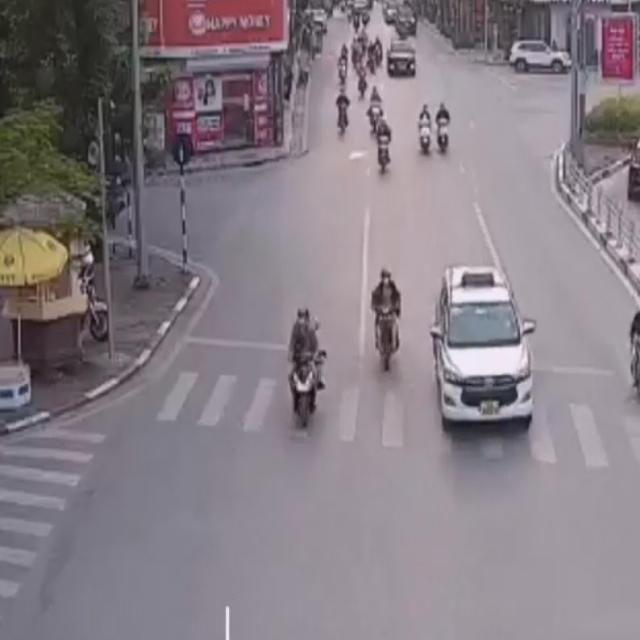car: (428, 260, 536, 438)
motorbike: (283, 304, 328, 432), (370, 269, 404, 376), (374, 120, 394, 176), (413, 101, 432, 155), (434, 101, 452, 157)
